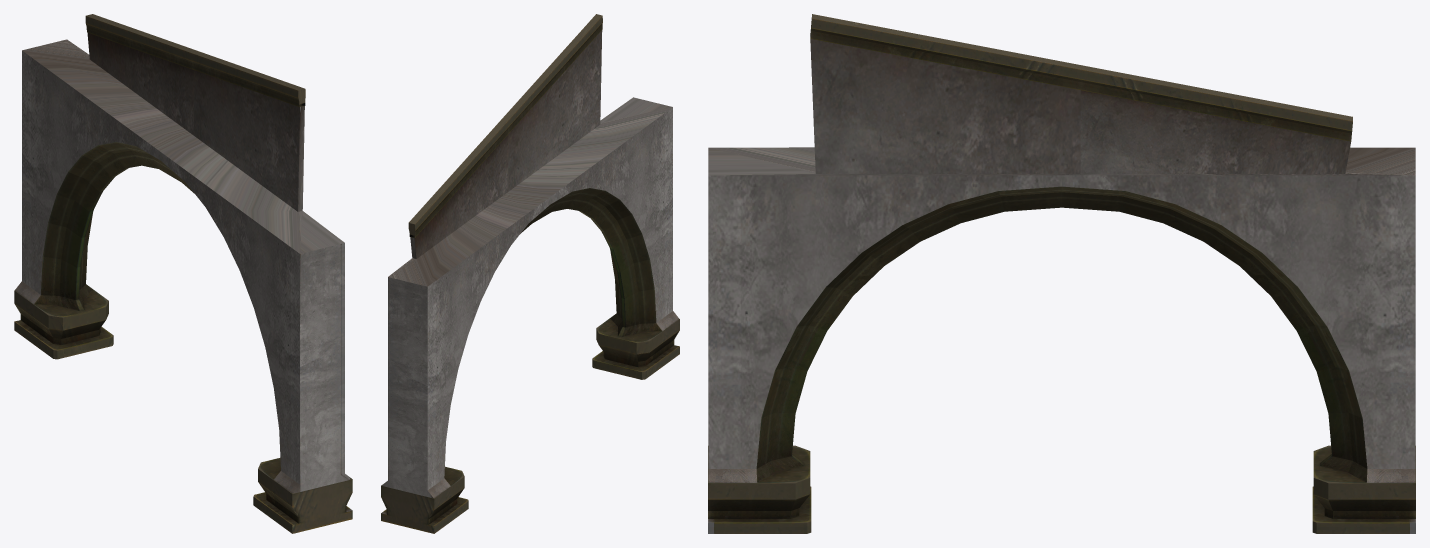
File: Stair.fbx
3 views of the same model, side by side, from view 1: azimuth 30°, elevation 25°; view 2: azimuth 150°, elevation 25°; view 3: azimuth 270°, elevation 25° (orthographic). The views are drawn at different scales.
Parts seen in each view (by area): view 1: FishArchBMerged2; view 2: FishArchBMerged2; view 3: FishArchBMerged2.
Part boxes in pixels (x1,y1,x2,y2): FishArchBMerged2: (14,14,352,533); FishArchBMerged2: (381,14,679,533); FishArchBMerged2: (708,14,1415,533).
Bounding box in the file's own units: 262 × 1665 × 2088.
